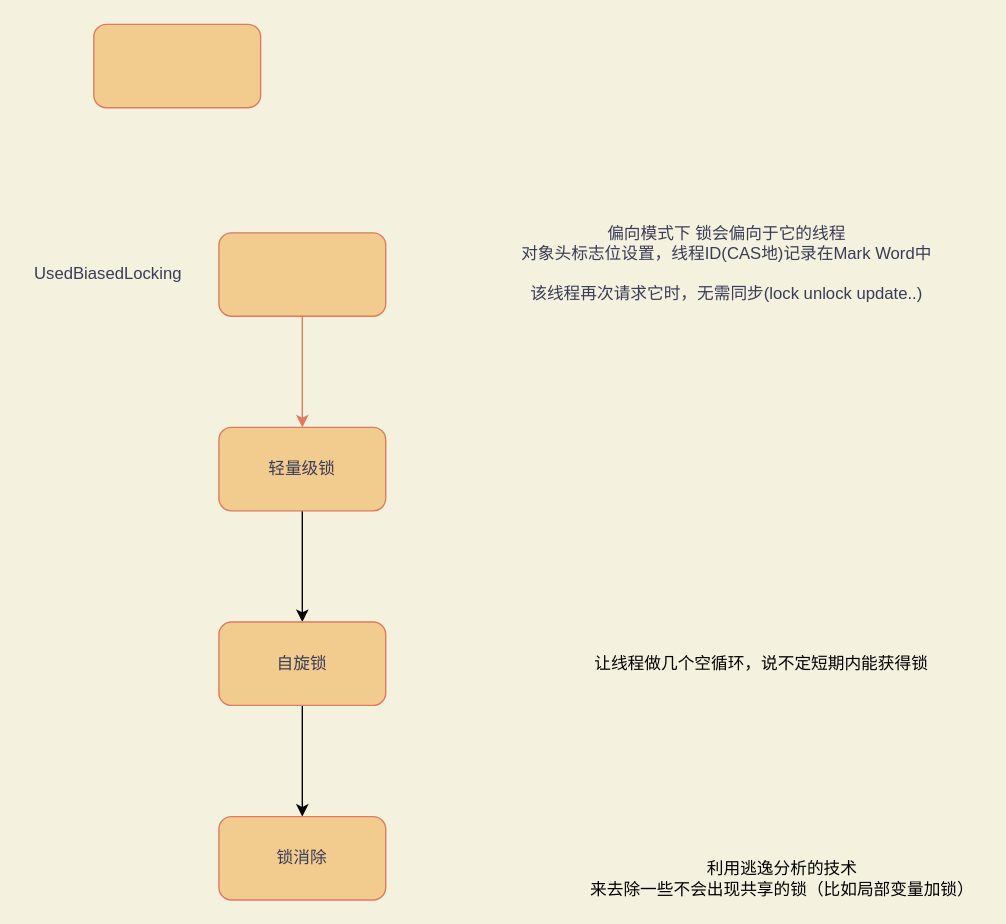
Some shapes in this 1006 by 924 pixel diagram are drawn without their labels. The shapes that lost their labels are listed below. From the top down, each one's box as (x1, y1, x2, y2) in pixels, then its label:
(92, 23, 261, 108): JVM锁优化??
(218, 231, 386, 316): 锁偏向
